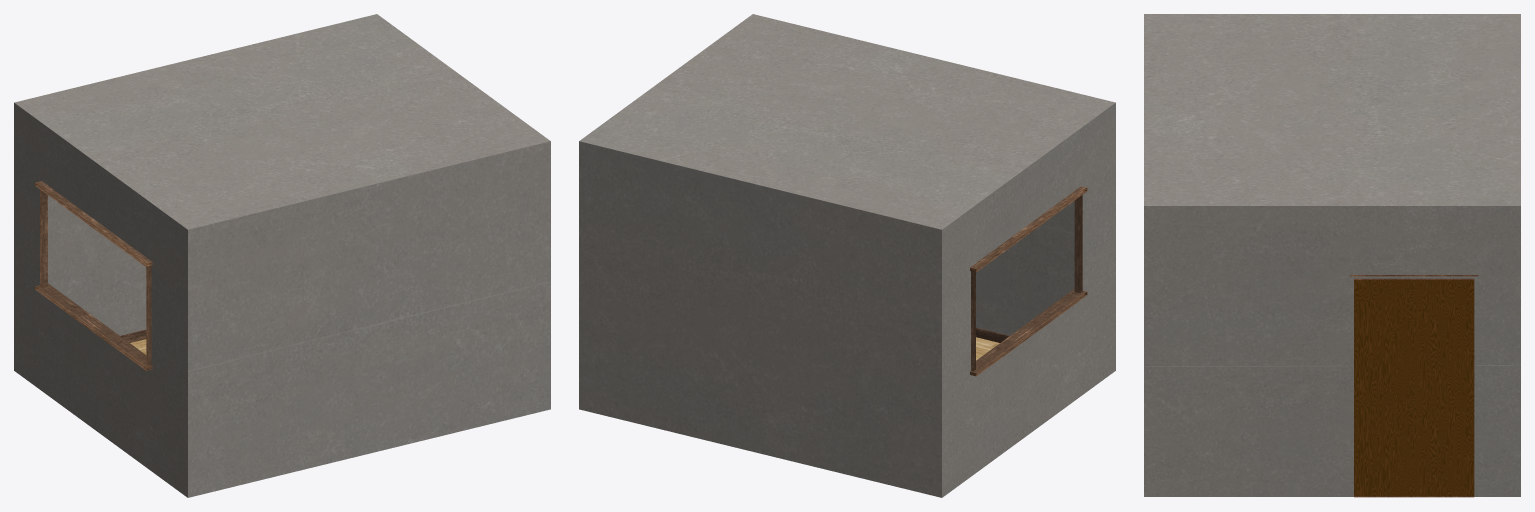
The model's file is Room_Base.fbx.
3 views of the same model, side by side, from view 1: azimuth 30°, elevation 25°; view 2: azimuth 150°, elevation 25°; view 3: azimuth 270°, elevation 25° (orthographic). The views are drawn at different scales.
Visible parts, largest first — view 1: Room_geo; view 2: Room_geo; view 3: Room_geo.
Boxes of the visible parts, x1=… form: Room_geo: x1=14, y1=14, x2=550, y2=497; Room_geo: x1=579, y1=14, x2=1115, y2=497; Room_geo: x1=1144, y1=14, x2=1520, y2=497.
Bounding box in the file's own units: 348 × 240 × 282.
